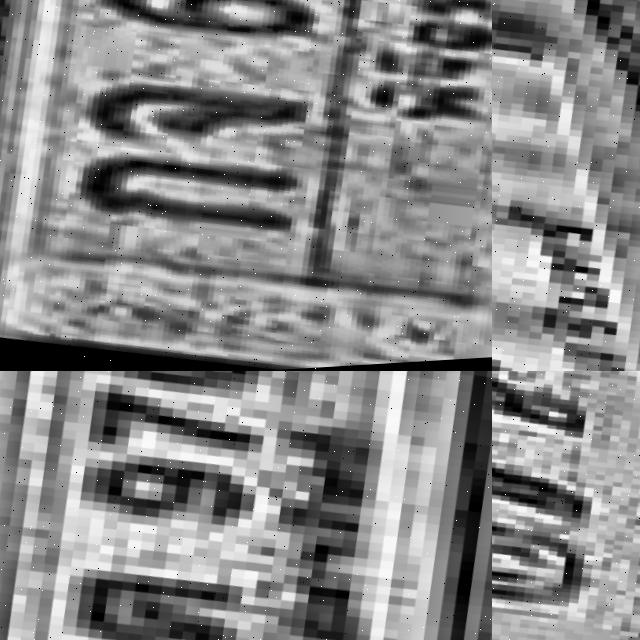license-plate: (0, 0, 492, 371), (0, 371, 492, 640), (492, 0, 640, 371), (492, 371, 640, 640)
